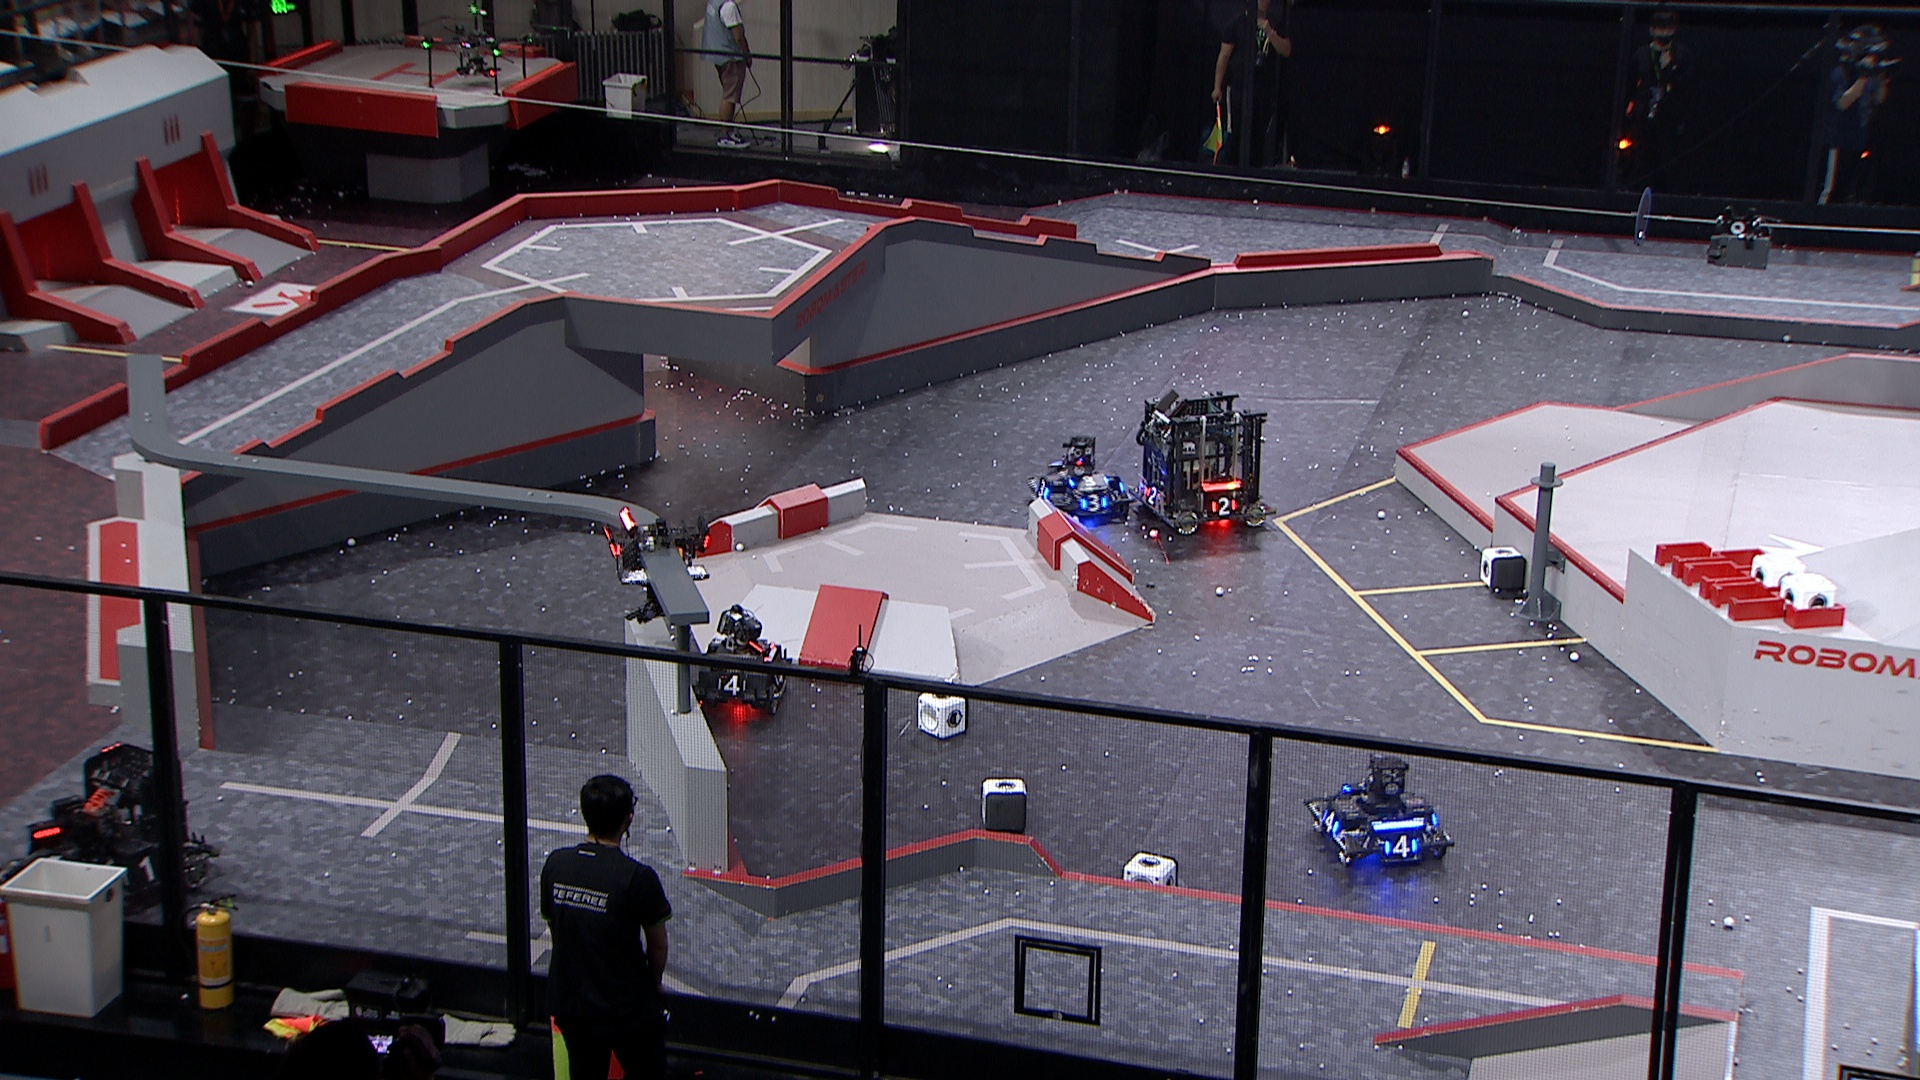armor: (119, 858, 161, 889), (1385, 835, 1420, 858), (717, 675, 750, 698), (1068, 473, 1112, 489), (603, 526, 622, 560), (1321, 808, 1342, 837), (1209, 498, 1240, 518), (1079, 495, 1110, 513), (1145, 485, 1164, 508), (1035, 477, 1054, 501)
car: (1125, 390, 1276, 538), (1302, 754, 1458, 868), (686, 603, 793, 716), (1025, 436, 1135, 522)
watcher: (600, 502, 711, 622)
